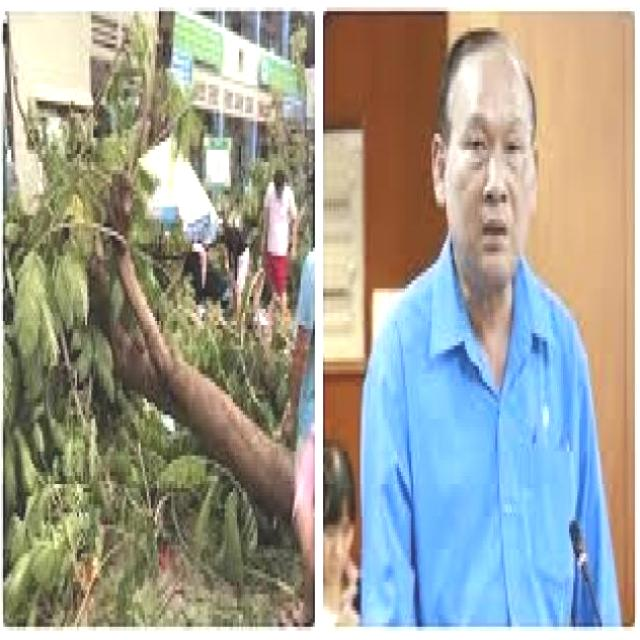fallen_object: (0, 122, 313, 543)
